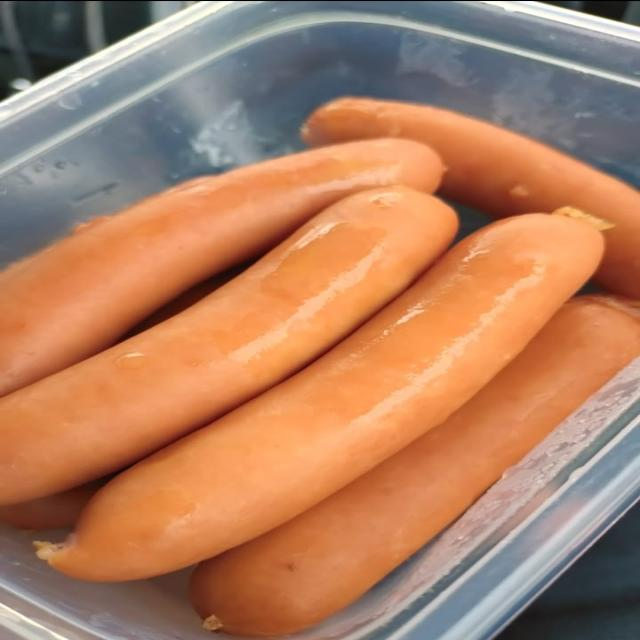sausage: (39, 214, 603, 580), (191, 297, 639, 636), (0, 187, 457, 504), (0, 140, 441, 395), (304, 98, 639, 298), (123, 263, 249, 339), (126, 264, 247, 337), (0, 481, 105, 529)
